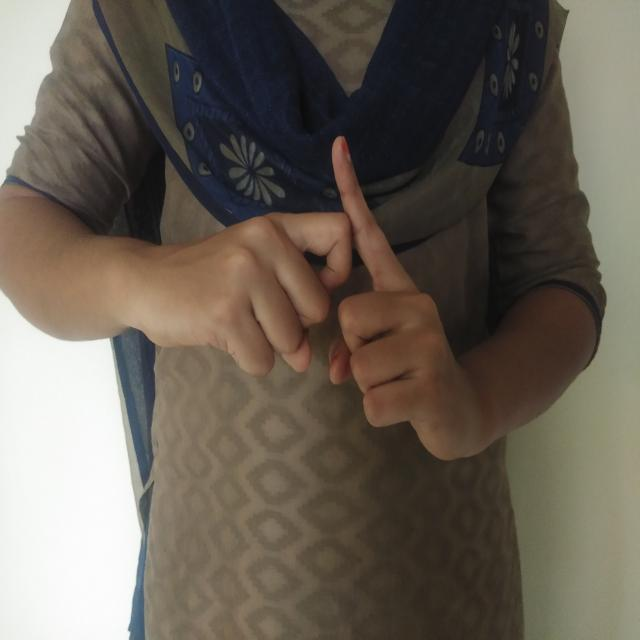K: (187, 126, 500, 476)
